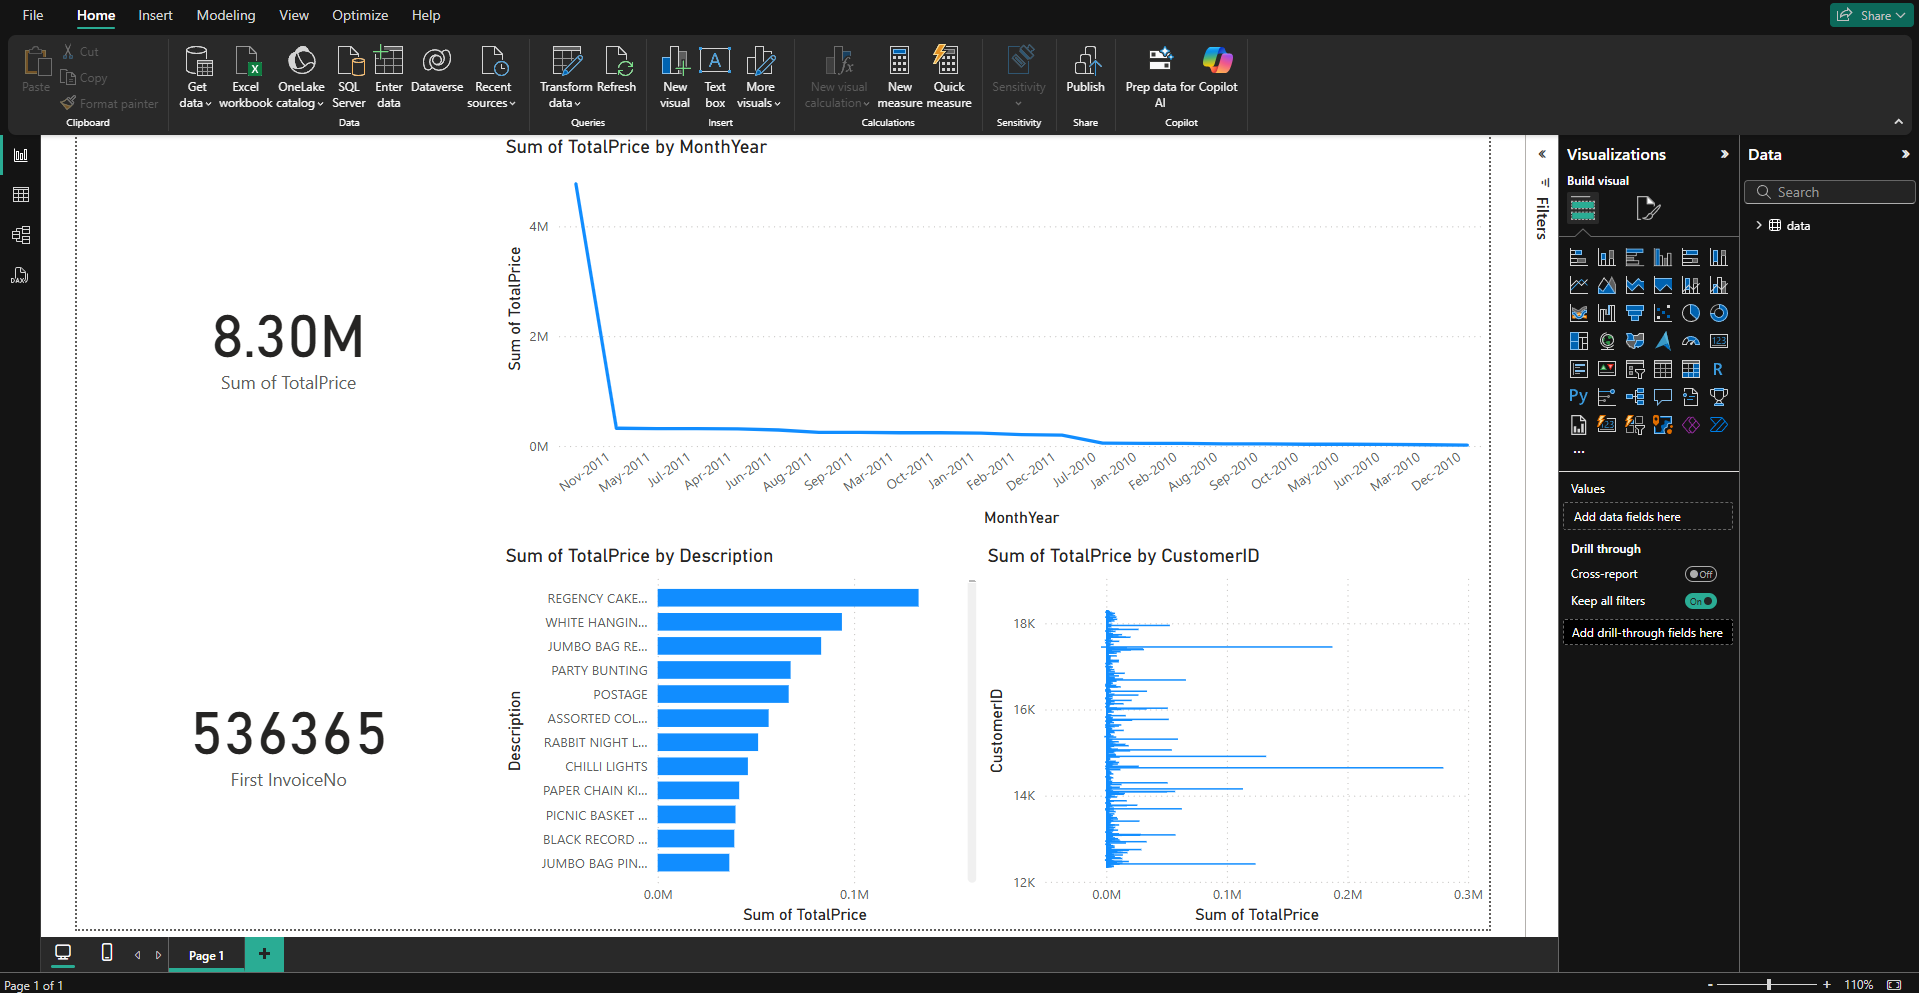

Layout of this report page (visuals, bound fields, positions):
{"tool":"powerbi","page":{"name":"Page 1","canvas":[1280,720],"ordinal":0},"visuals":[{"type":"lineChart","fields":{"Category":["data.MonthYear"],"Y":["Sum(data.TotalPrice)"]},"box":[383.6,0,896.8,360],"z":0},{"type":"clusteredBarChart","fields":{"Category":["data.Description"],"Y":["Sum(data.TotalPrice)"]},"box":[383.6,370.9,437.1,349.1],"z":1000},{"type":"clusteredBarChart","fields":{"Category":["data.CustomerID"],"Y":["Sum(data.TotalPrice)"]},"box":[820.7,370.9,459.7,349.1],"z":2000},{"type":"card","fields":{"Values":["Sum(data.TotalPrice)"]},"box":[0,0,383.6,370.9],"z":2001},{"type":"card","fields":{"Values":["Min(data.InvoiceNo)"]},"box":[0,370.9,383.6,349.1],"z":2002}]}

Visuals, with their boxes on the page's 1280x720 design canvas (x1, y1, x2, y2). These are canvas units, not pixel positions in the 1919x993 screenshot, which may show the page scaled, cropped or inside an application window:
lineChart - data.MonthYear x Sum(data.TotalPrice): 384/0/1280/360
clusteredBarChart - data.Description x Sum(data.TotalPrice): 384/371/821/720
clusteredBarChart - data.CustomerID x Sum(data.TotalPrice): 821/371/1280/720
card - Sum(data.TotalPrice): 0/0/384/371
card - Min(data.InvoiceNo): 0/371/384/720
